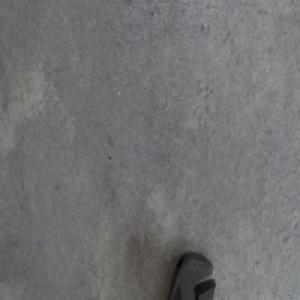AdjustableWrench: (167, 253, 216, 299)
